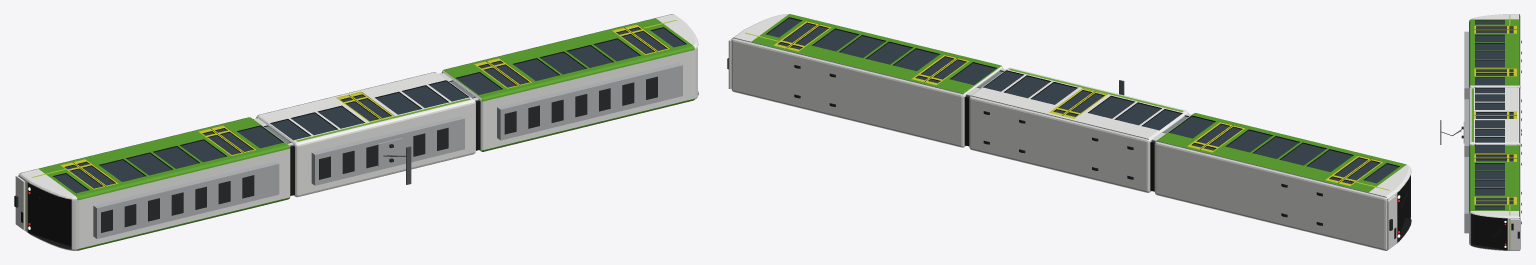
The picture shows the model from 3 angles, left to right: view 1: azimuth 30°, elevation 25°; view 2: azimuth 150°, elevation 25°; view 3: azimuth 270°, elevation 25°; orthographic projection. The views are drawn at different scales.
Parts seen in each view (by area): view 1: E_body_s0, E_body_s2, E_body_s1, E_roof_pod_019, E_roof_pod_034, E_roof_pod_027, E_pan_base_042, E_bumper_007; view 2: E_body_s0, E_body_s2, E_body_s1, E_bumper_007; view 3: E_body_s2, E_body_s0, E_body_s1, E_roof_pod_034, E_roof_pod_019, E_bumper_015, E_roof_pod_027.
Boxes of the visible parts, x1,y1,x2,y2 form: E_body_s0: [18, 117, 290, 250]; E_body_s2: [441, 14, 698, 151]; E_body_s1: [256, 72, 475, 197]; E_roof_pod_019: [93, 161, 279, 238]; E_roof_pod_034: [497, 62, 682, 140]; E_roof_pod_027: [311, 116, 464, 185]; E_pan_base_042: [378, 138, 402, 166]; E_bumper_007: [15, 175, 25, 229]; E_body_s0: [1154, 113, 1411, 250]; E_body_s2: [731, 14, 1003, 147]; E_body_s1: [969, 67, 1188, 192]; E_bumper_007: [1387, 195, 1396, 249]; E_body_s2: [1469, 145, 1520, 250]; E_body_s0: [1469, 14, 1520, 89]; E_body_s1: [1469, 87, 1520, 146]; E_roof_pod_034: [1464, 157, 1468, 233]; E_roof_pod_019: [1464, 31, 1468, 99]; E_bumper_015: [1510, 219, 1520, 250]; E_roof_pod_027: [1464, 99, 1468, 156].
Bounding box in the file's own units: 33.81 × 2.65 × 5.64.
